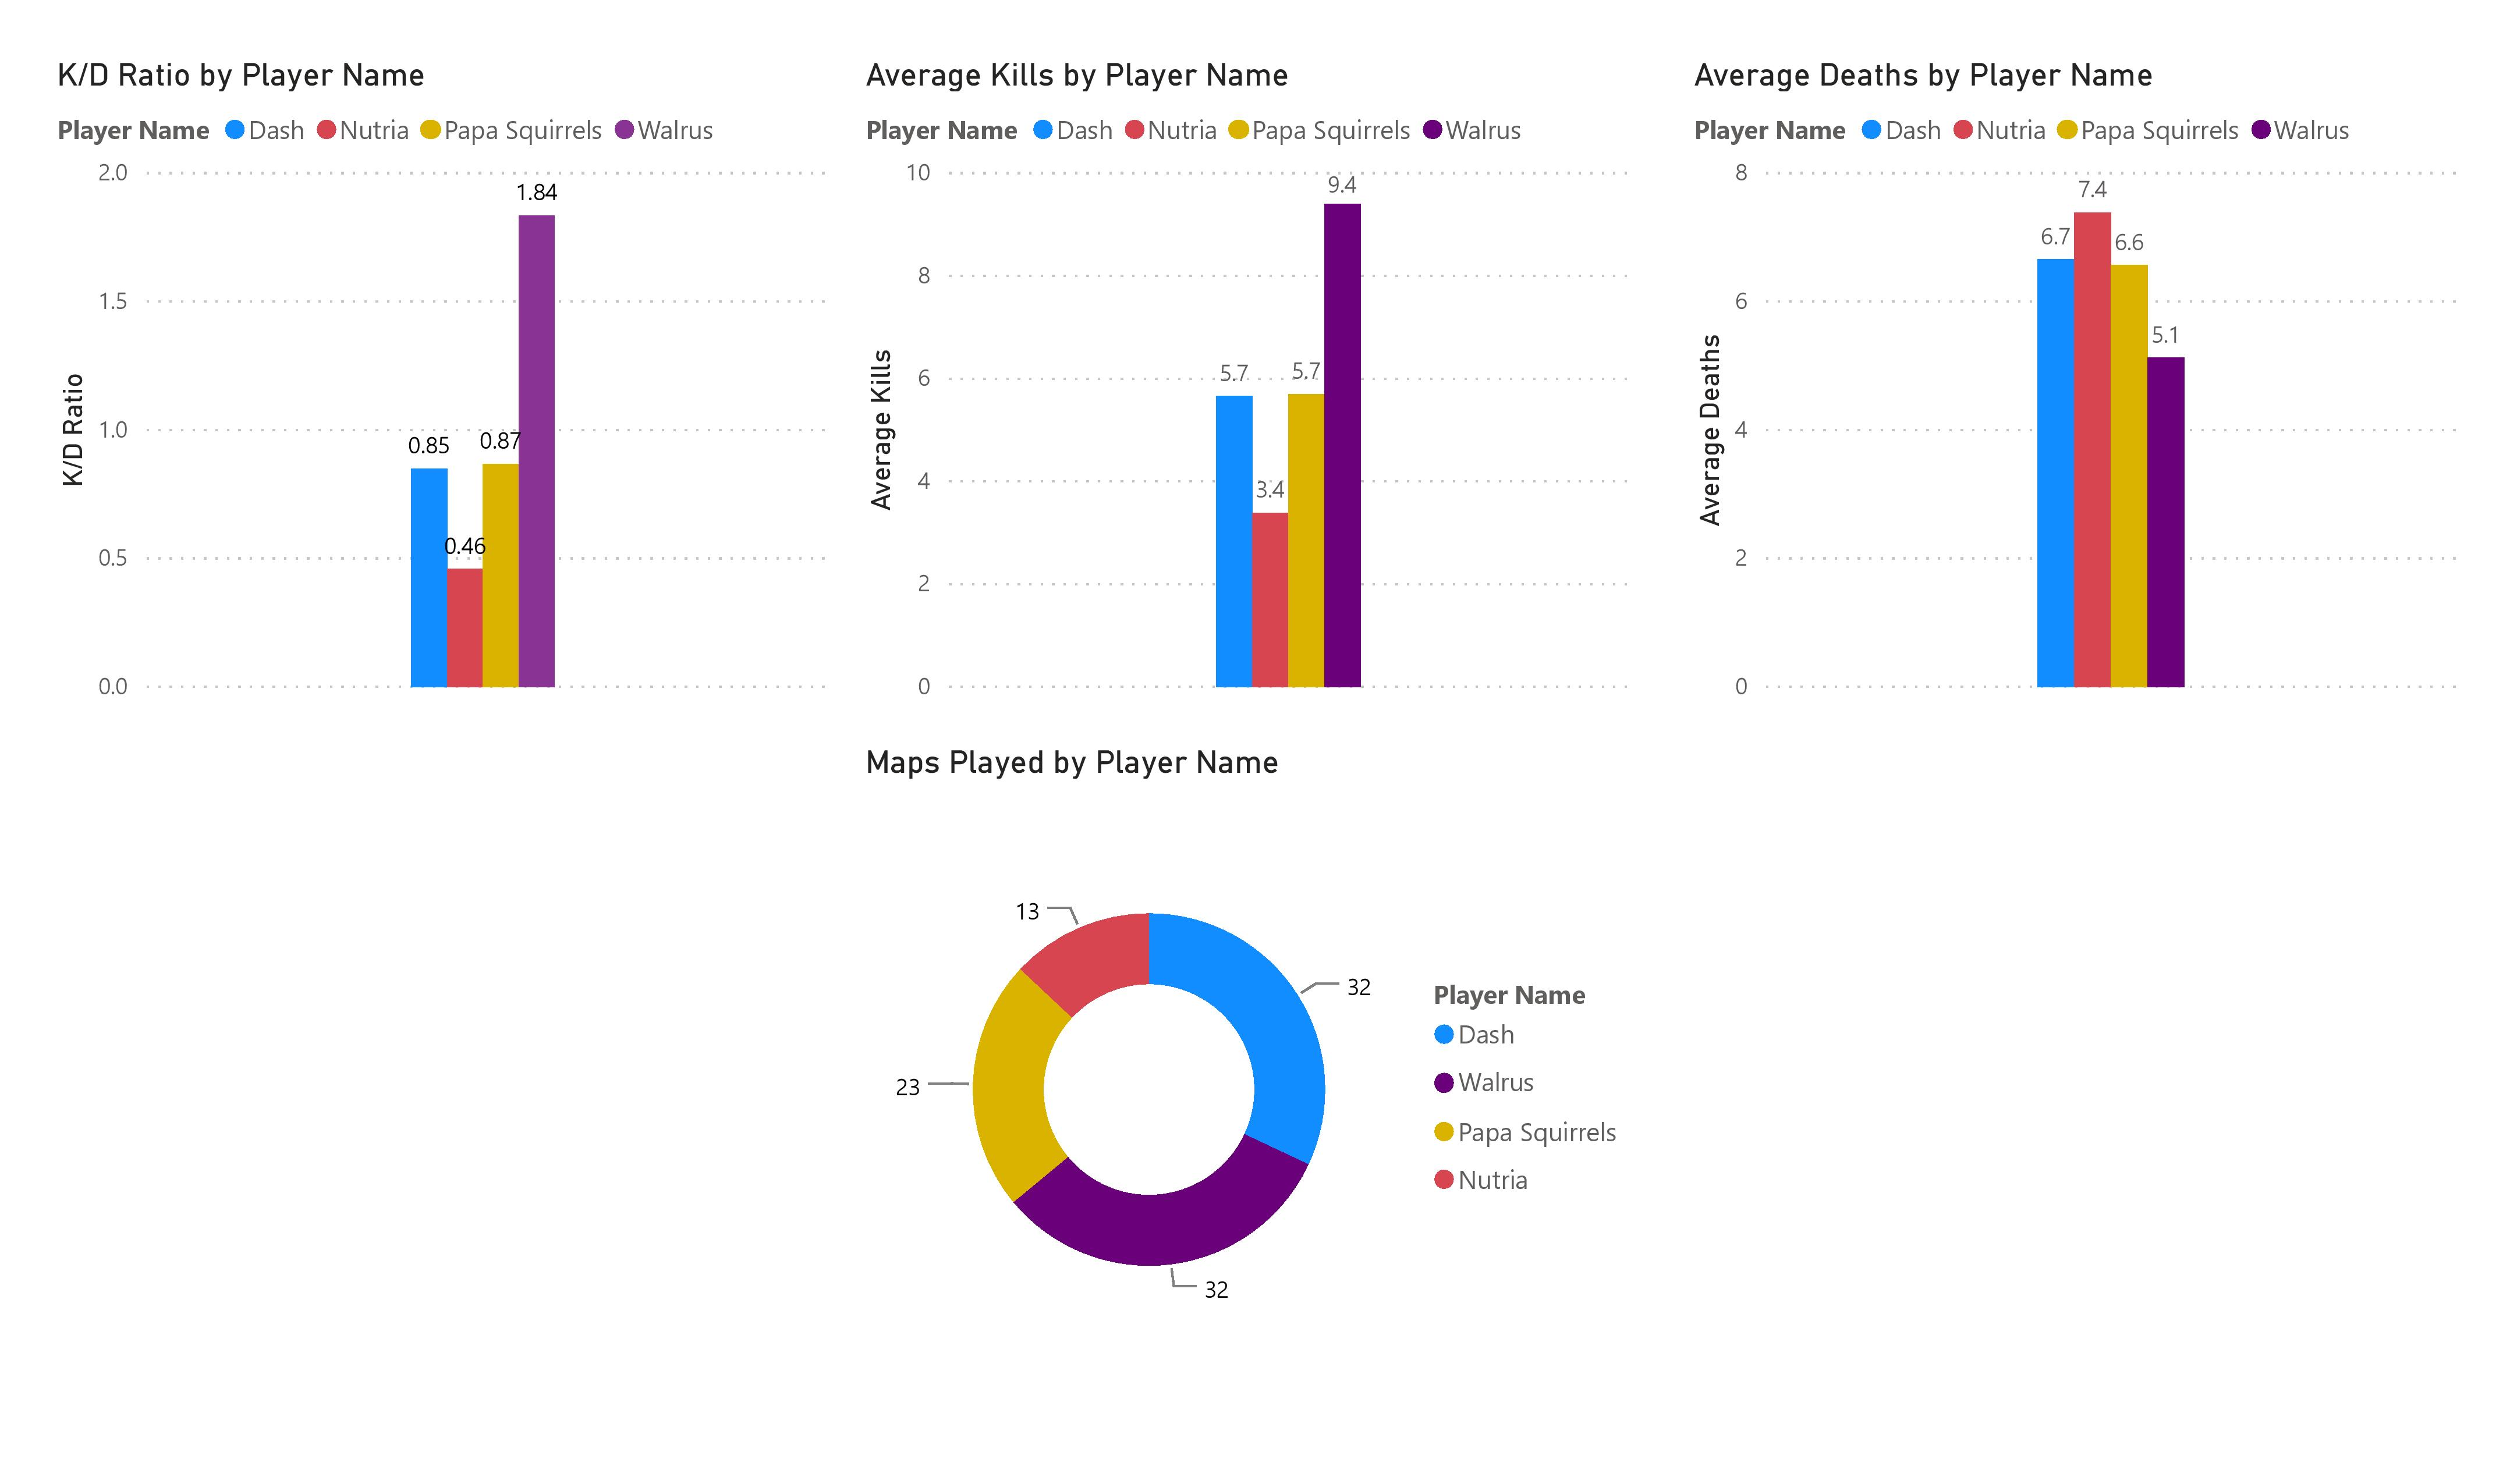

This screenshot's page, from the dashboard's own definition file:
{"tool":"powerbi","page":{"name":"Page 1","canvas":[1280,720],"ordinal":0},"visuals":[{"type":"clusteredColumnChart","fields":{"Series":["Table1.Player Name"],"Y":["Sum(Table1.K/D Ratio)"]},"box":[9.7,0,413.4,345.3],"z":0},{"type":"clusteredColumnChart","fields":{"Series":["Table1.Player Name"],"Y":["Sum(Table1.Average Kills)"]},"box":[432.8,0,413.4,345.3],"z":1},{"type":"clusteredColumnChart","fields":{"Series":["Table1.Player Name"],"Y":["Sum(Table1.Average Deaths)"]},"box":[866.6,0,413.4,345.3],"z":2},{"type":"donutChart","fields":{"Category":["Table1.Player Name"],"Y":["Sum(Table1.Maps Played)"]},"box":[432.8,359.9,413.4,345.3],"z":3}]}

Visuals, with their boxes on the page's 1280x720 design canvas (x1, y1, x2, y2). These are canvas units, not pixel positions in the 2503x1484 screenshot, which may show the page scaled, cropped or inside an application window:
clusteredColumnChart - Table1.Player Name x Sum(Table1.K/D Ratio): 10:0:423:345
clusteredColumnChart - Table1.Player Name x Sum(Table1.Average Kills): 433:0:846:345
clusteredColumnChart - Table1.Player Name x Sum(Table1.Average Deaths): 867:0:1280:345
donutChart - Table1.Player Name x Sum(Table1.Maps Played): 433:360:846:705
